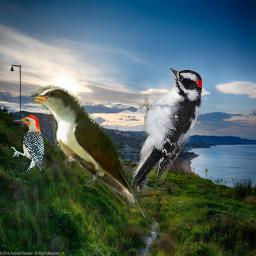Cuckoo: (31, 84, 160, 232)
Woodpecker: (129, 66, 202, 195), (11, 115, 46, 174)
